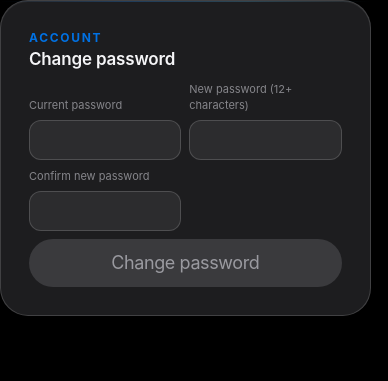
ChangePassword › shows why a change was refused and does not sign out
In the password field labelled "Current password": [105, 140] box left=29, top=120, right=181, bottom=160, type "wrong-password-1"
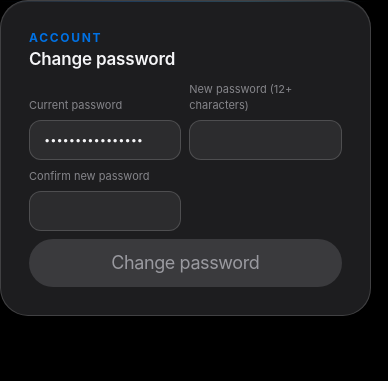
In the password field labelled "New password (12+ characters)": [265, 140] box left=189, top=120, right=342, bottom=160, type "new-password-12"
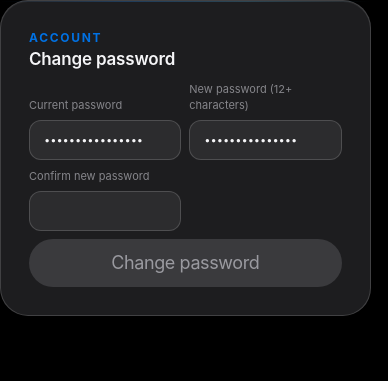
In the password field labelled "Confirm new password": [105, 211] box left=29, top=190, right=181, bottom=231, type "new-password-12"
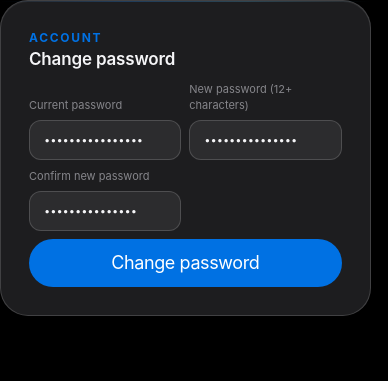
Click the button "Change password": [185, 263] box left=29, top=239, right=342, bottom=287
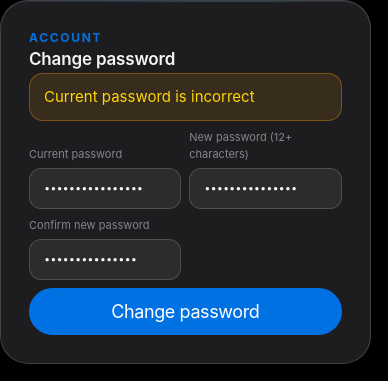
Result: the text "Current password is incorrect" is shown at left=29, top=72, right=342, bottom=121
